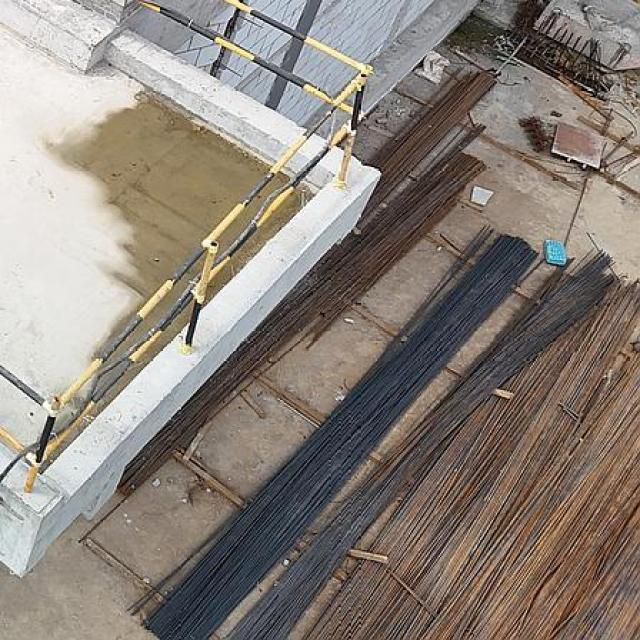edge_guardrail: (0, 0, 375, 491)
